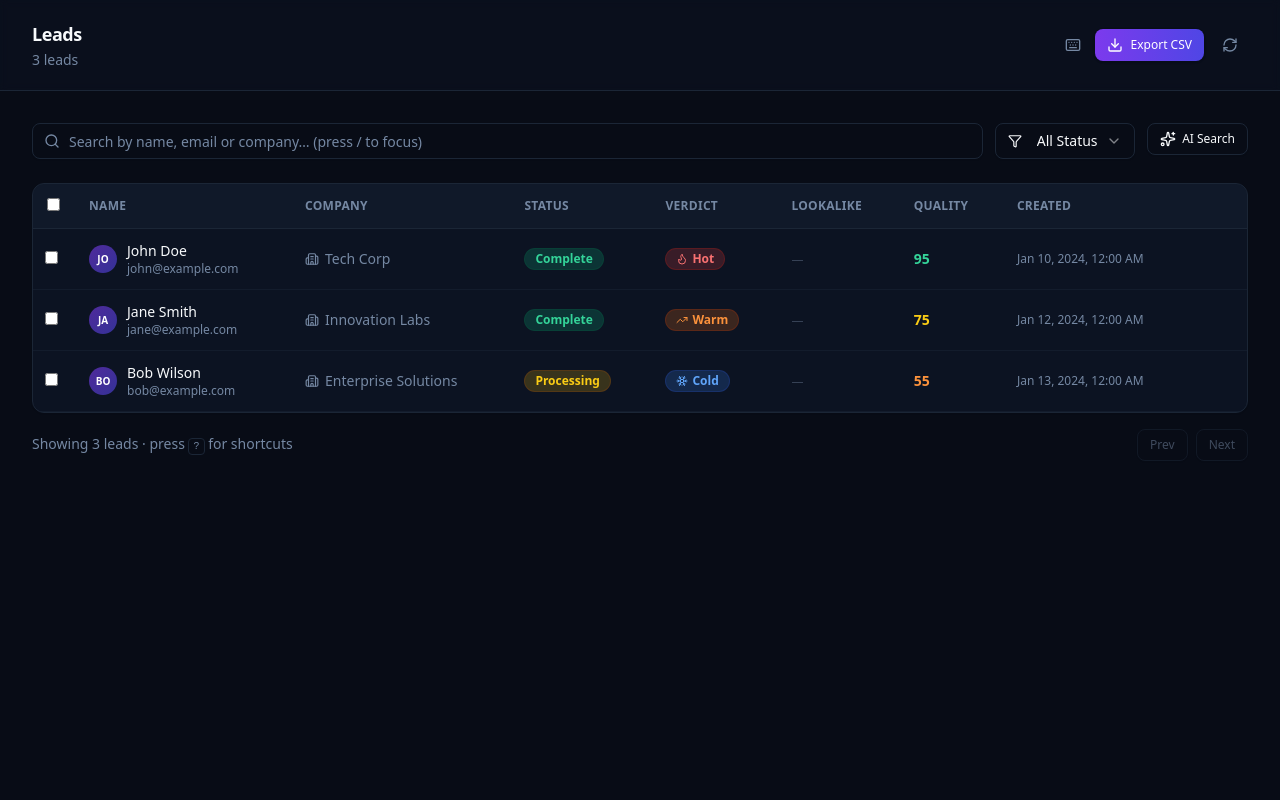
Leads page › clicking Delete archives the selected leads
Expected: the text "John Doe" is shown, [127,241,187,260]
Click the checkbox in the row of "John Doe" at coordinates (52, 258), box [45,251,58,264]
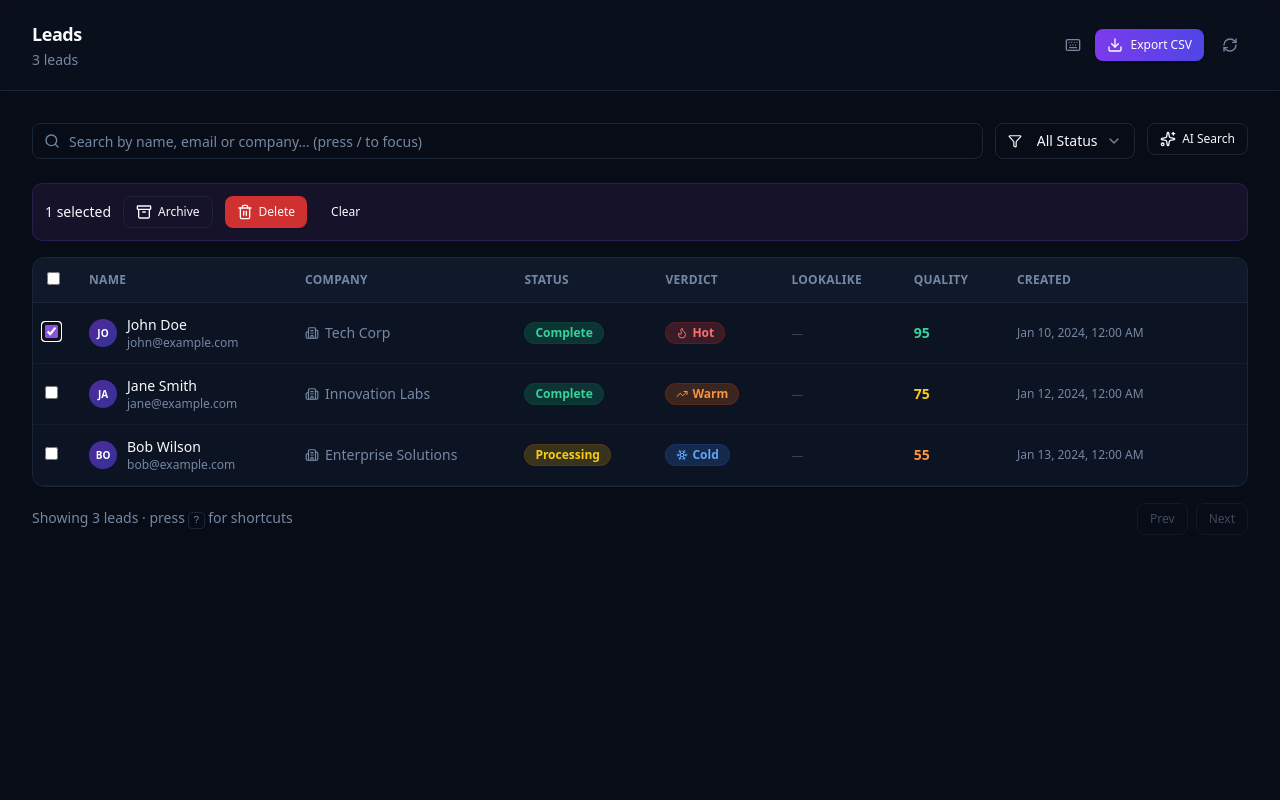
Expected: the button "Delete" is shown
Click the button "Delete" at coordinates (266, 212), box [225,196,307,228]
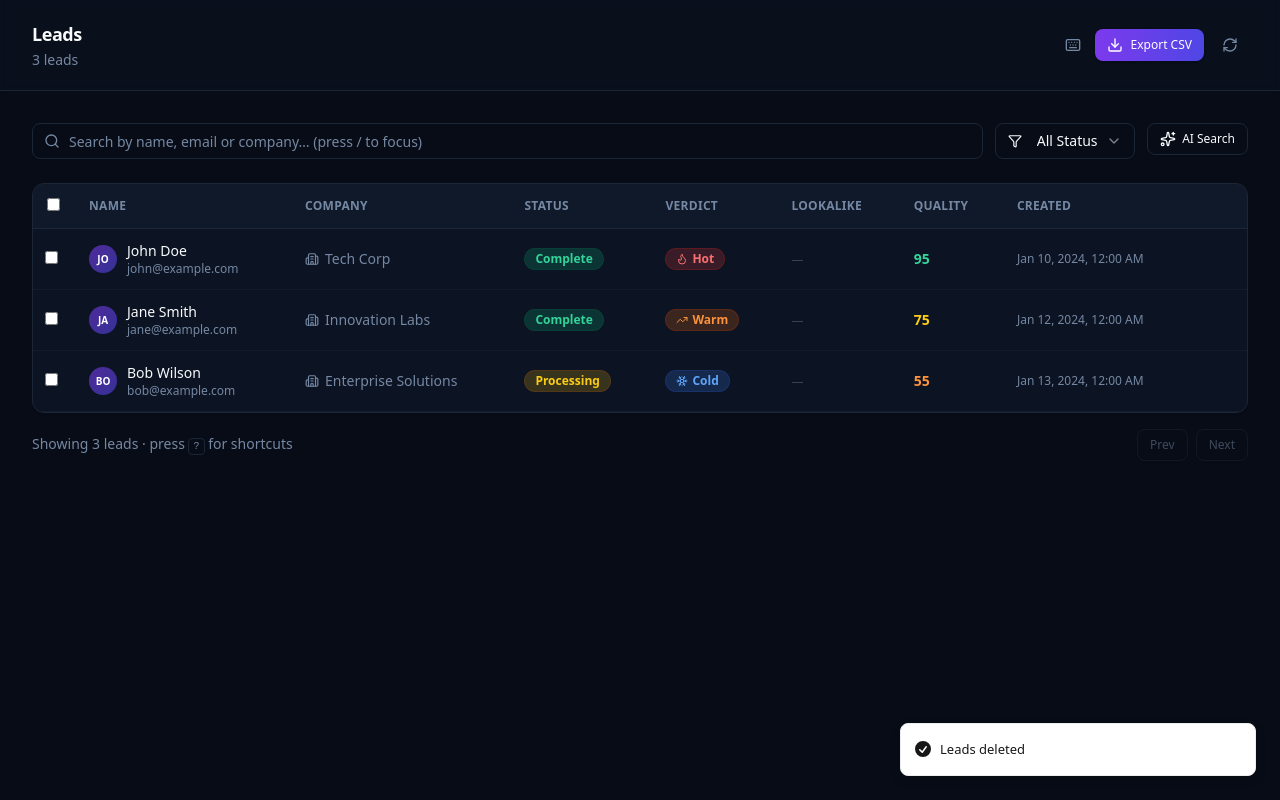
Expected: the text "1 selected" is gone
